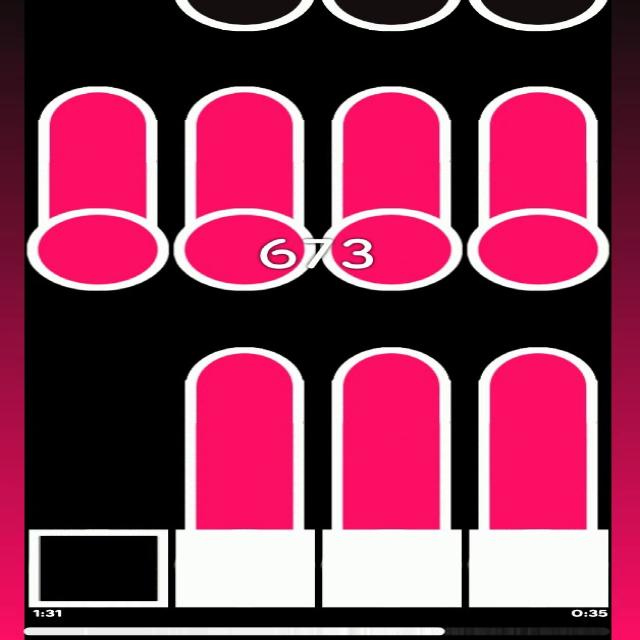end_hold: (468, 77, 602, 129), (329, 81, 450, 135), (182, 81, 306, 129), (30, 83, 162, 128), (182, 342, 307, 389), (329, 342, 454, 387), (476, 341, 597, 384)
note: (468, 0, 608, 35), (321, 0, 463, 32), (177, 0, 317, 32)
start_hold: (26, 196, 168, 292), (323, 198, 466, 292), (173, 198, 312, 292), (469, 203, 610, 293)
